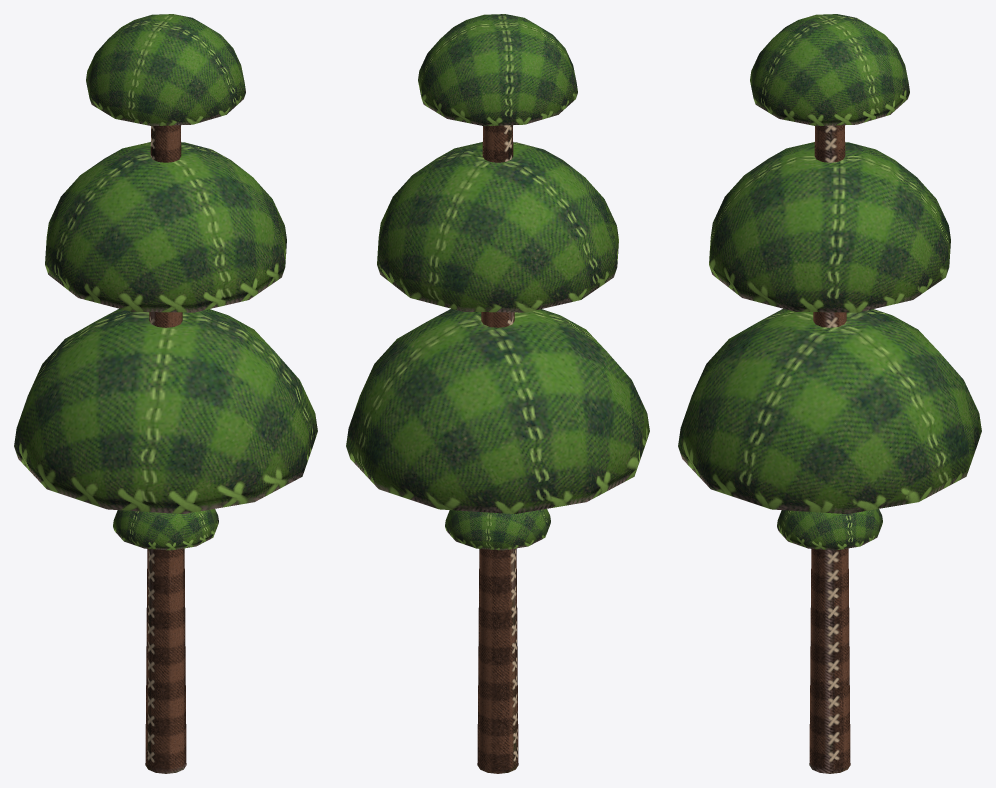
The model's file is lpb_cs_tree10.fbx.
The picture shows the model from 3 angles, left to right: view 1: azimuth 30°, elevation 25°; view 2: azimuth 150°, elevation 25°; view 3: azimuth 270°, elevation 25°; orthographic projection.
Visible parts, largest first — view 1: lpb_cs_tree10; view 2: lpb_cs_tree10; view 3: lpb_cs_tree10.
Part boxes in pixels (<box>): lpb_cs_tree10: <box>14,14,317,773</box>; lpb_cs_tree10: <box>346,14,649,773</box>; lpb_cs_tree10: <box>678,14,981,773</box>.
Size of the model in its own units: 76.38 by 206 by 76.38.
